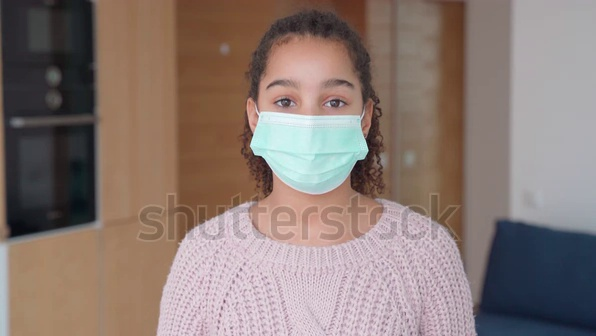Mask: (241, 112, 383, 198)
